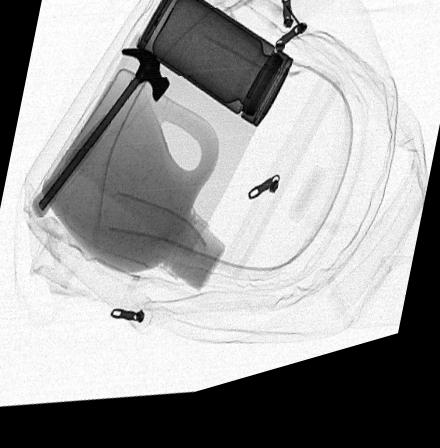Hammer: (29, 53, 169, 219)
